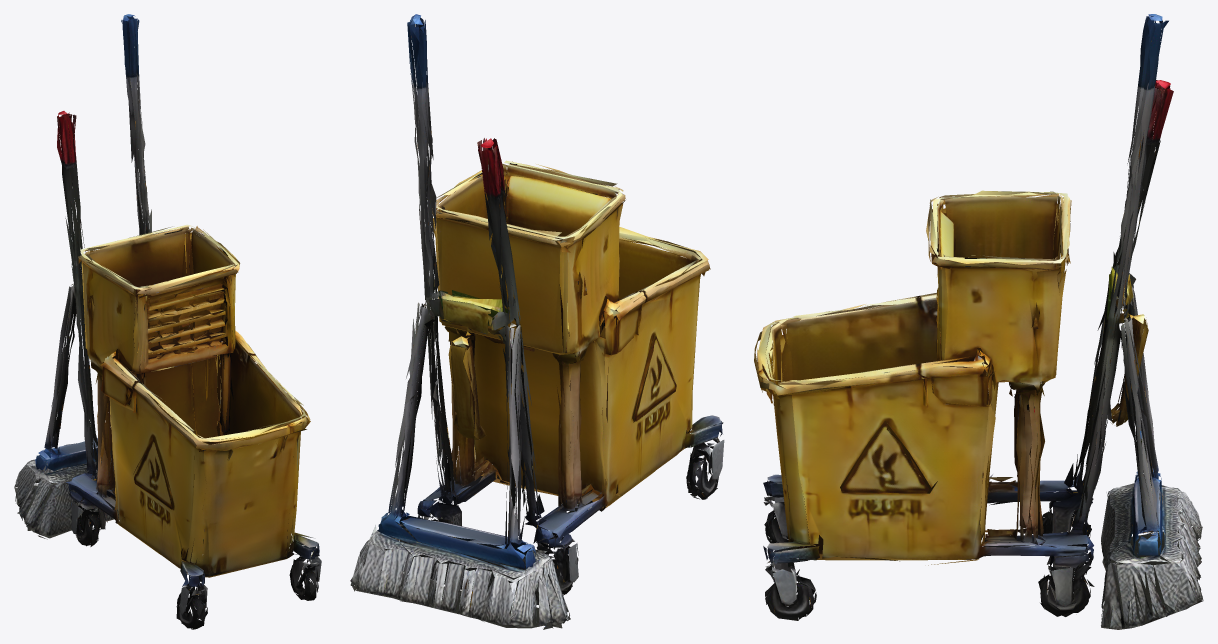
File: mop_trolley.glb
3 views of the same model, side by side, from view 1: azimuth 30°, elevation 25°; view 2: azimuth 150°, elevation 25°; view 3: azimuth 270°, elevation 25° (orthographic). The views are drawn at different scales.
Visible parts, largest first — view 1: mop_trolley; view 2: mop_trolley; view 3: mop_trolley.
Part boxes in pixels (<box>): mop_trolley: <box>14,14,321,629</box>; mop_trolley: <box>350,14,724,629</box>; mop_trolley: <box>754,14,1203,629</box>.
Bounding box in the file's own units: 0.3659 × 1 × 0.6899.
Materials: 1 (1 with a texture image).
